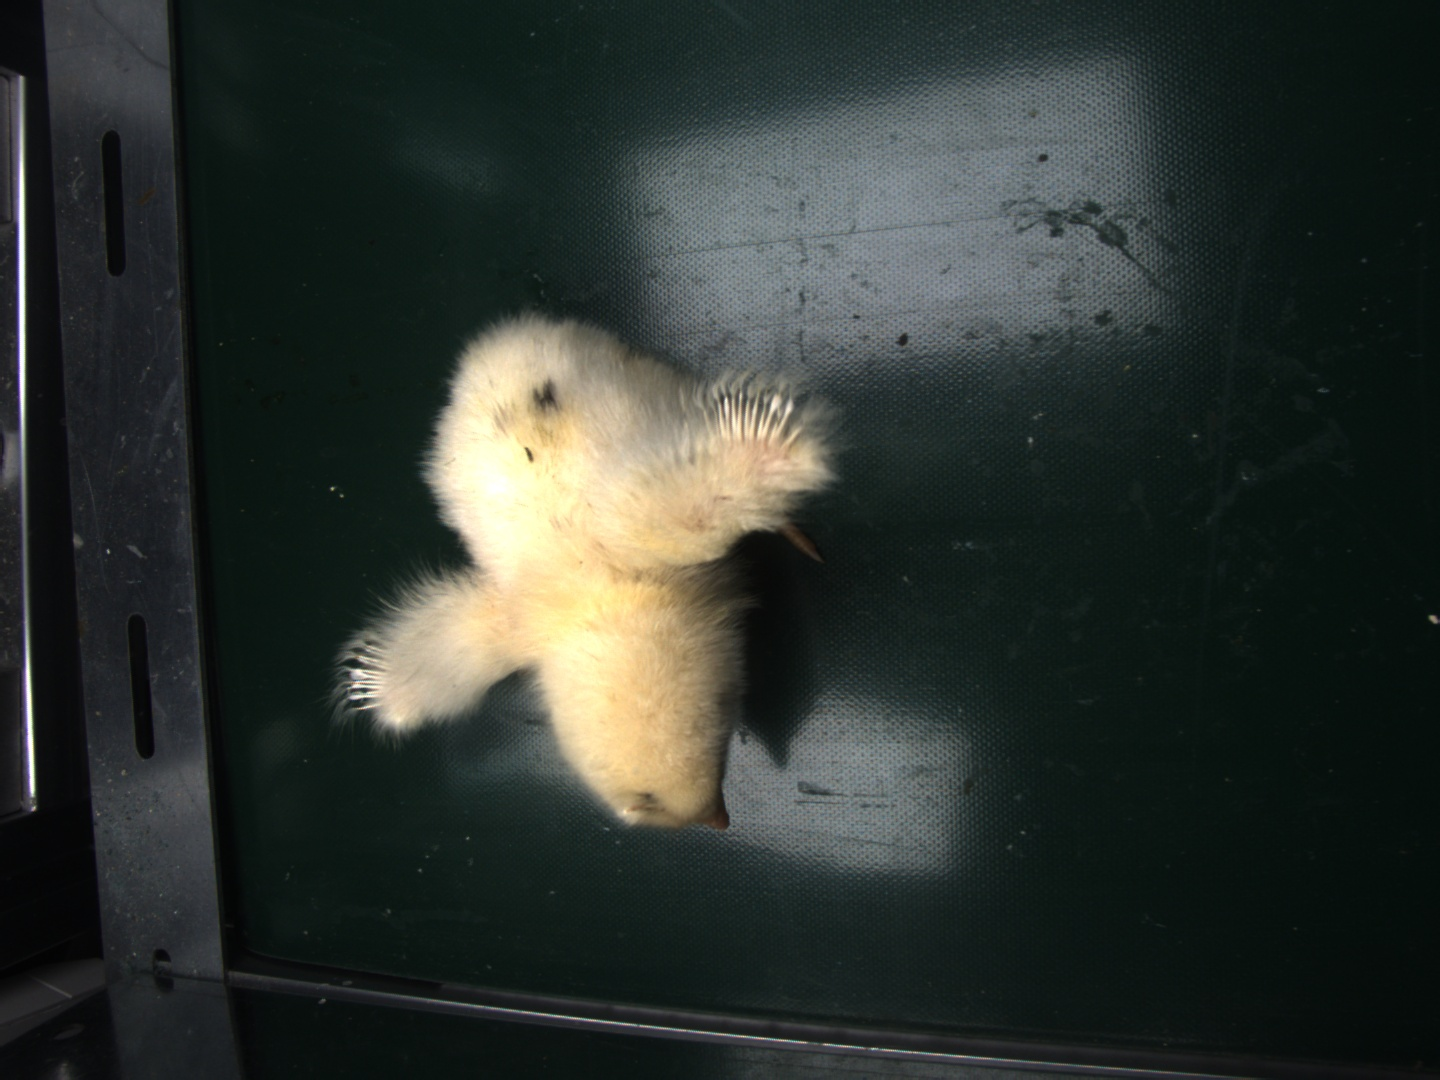male: (711, 393, 791, 437), (353, 638, 396, 712)
